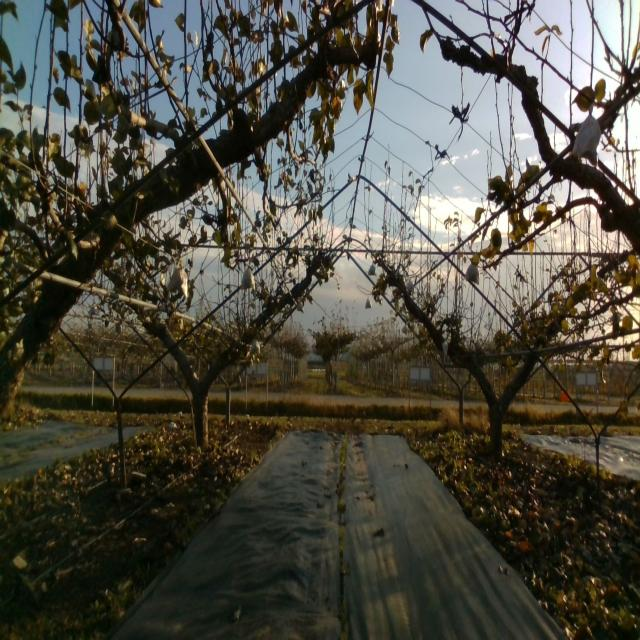pearbags: (571, 102, 601, 166), (168, 259, 188, 299), (241, 264, 255, 289), (465, 264, 479, 284)
